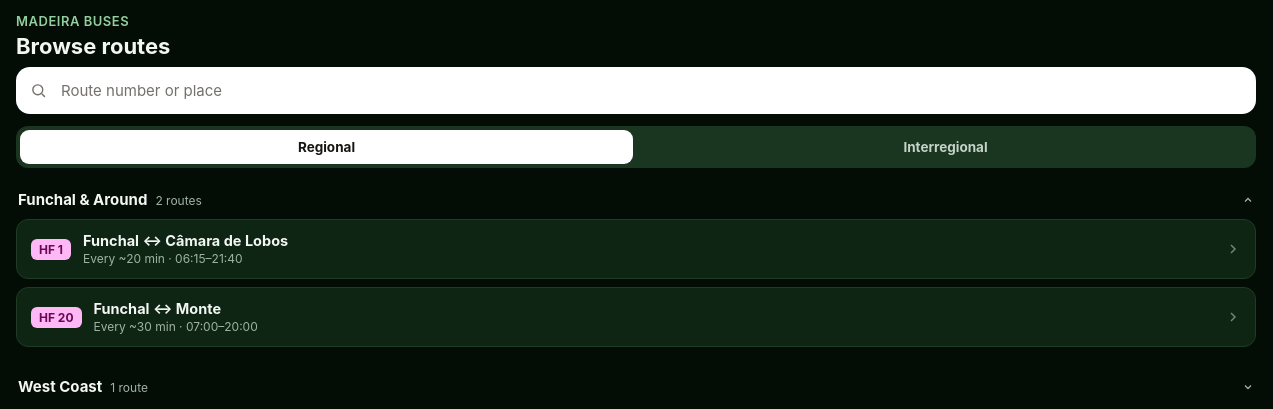
Test: BrowseScreen › lists interregional routes on that tab
What coordinates should you click on to do the following:
click the button "Interregional"
I would click on:
 (946, 147)
Its box is [639,130,1252,164].
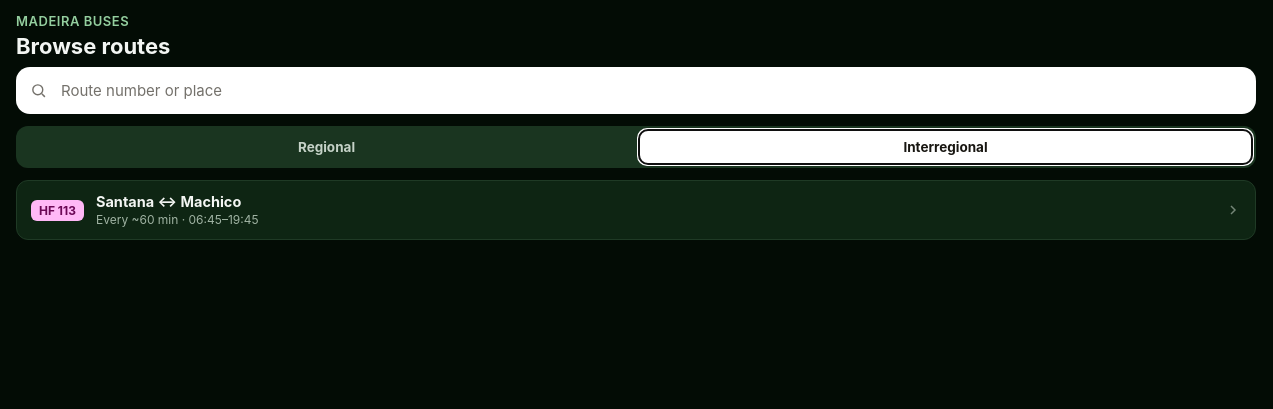
Check: the text "Santana ↔ Machico" is shown, box [96,193,241,210]
Check: the button "Funchal ↔ Câmara de Lobos" is gone
